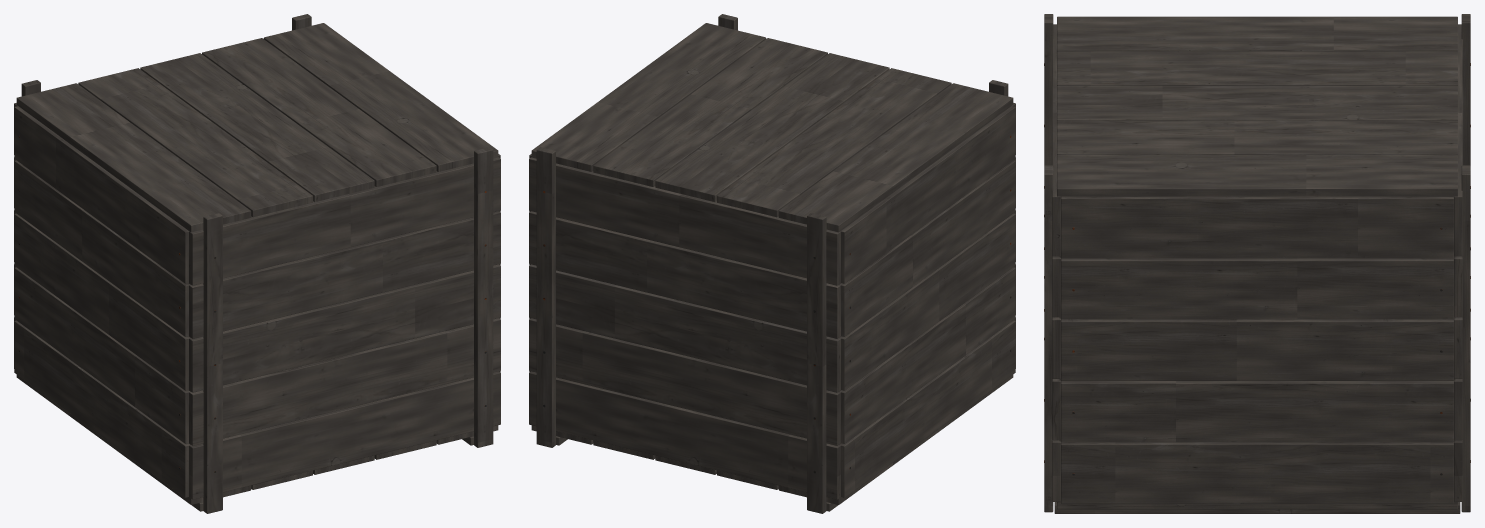
Rendered from SM_timber_shipping_crate_0d68bca7f8.fbx.
3 views of the same model, side by side, from view 1: azimuth 30°, elevation 25°; view 2: azimuth 150°, elevation 25°; view 3: azimuth 270°, elevation 25° (orthographic). The views are drawn at different scales.
Visible parts, largest first — view 1: SM_timber_shipping_crate_0d68bca7f8; view 2: SM_timber_shipping_crate_0d68bca7f8; view 3: SM_timber_shipping_crate_0d68bca7f8.
Boxes of the visible parts, x1,y1,x2,y2 form: SM_timber_shipping_crate_0d68bca7f8: [14, 14, 500, 513]; SM_timber_shipping_crate_0d68bca7f8: [529, 14, 1015, 513]; SM_timber_shipping_crate_0d68bca7f8: [1044, 14, 1470, 513].
Size of what is drawn, in the model's own units: 106 by 108 by 94.9.
2 materials, 2 textured.
